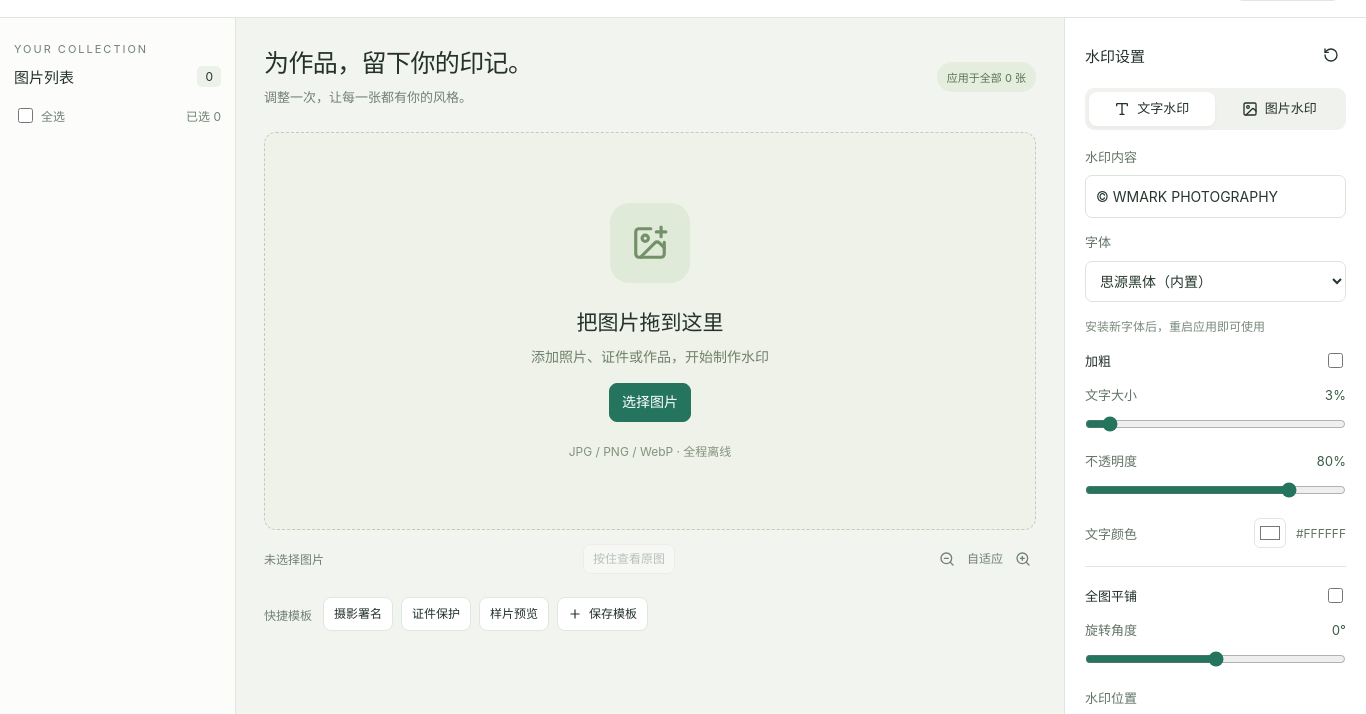
Scenario: R01/R02 starts empty and imports a real backend result
Click the button "选择图片". click: x=650, y=402
box: x1=609 y1=383 x2=691 y2=422
(page scrolled)
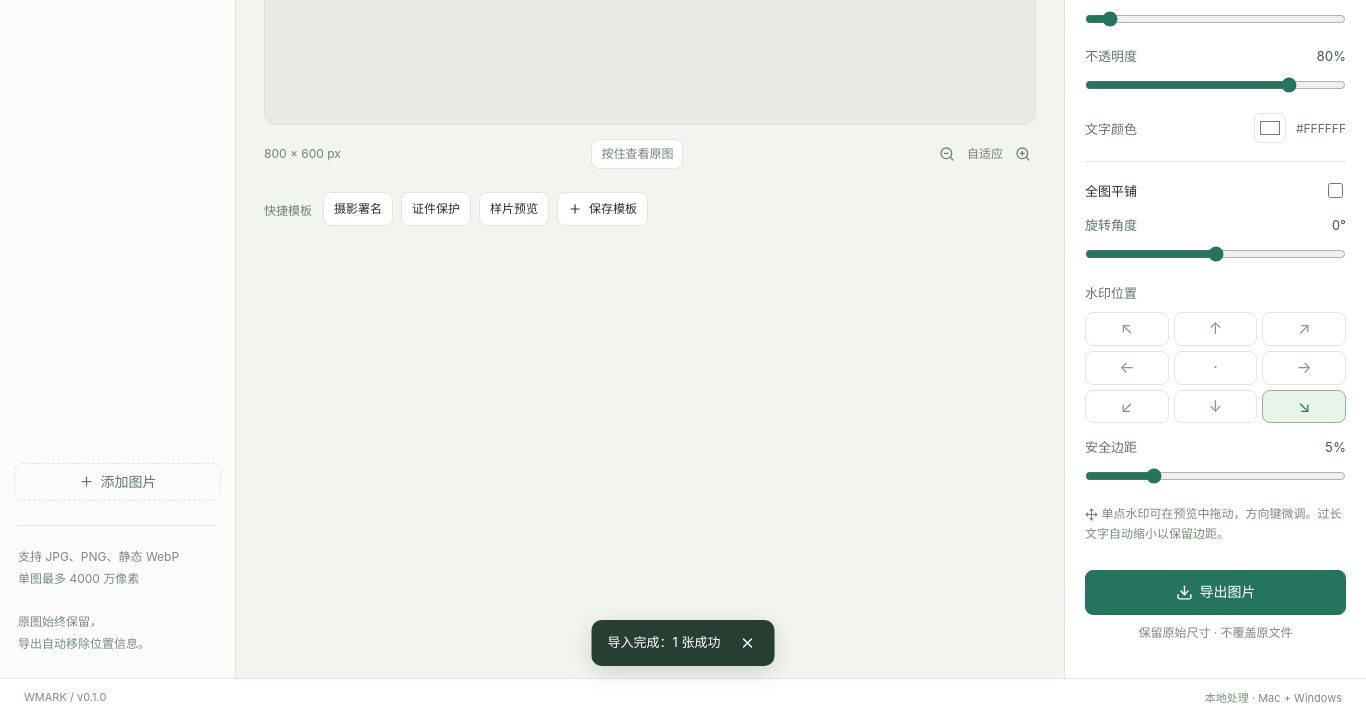
Expected: the text "800 × 600 px" is shown, x1=264 y1=146 x2=341 y2=161
Expected: the button "导出图片" is enabled, x1=1085 y1=570 x2=1346 y2=615
